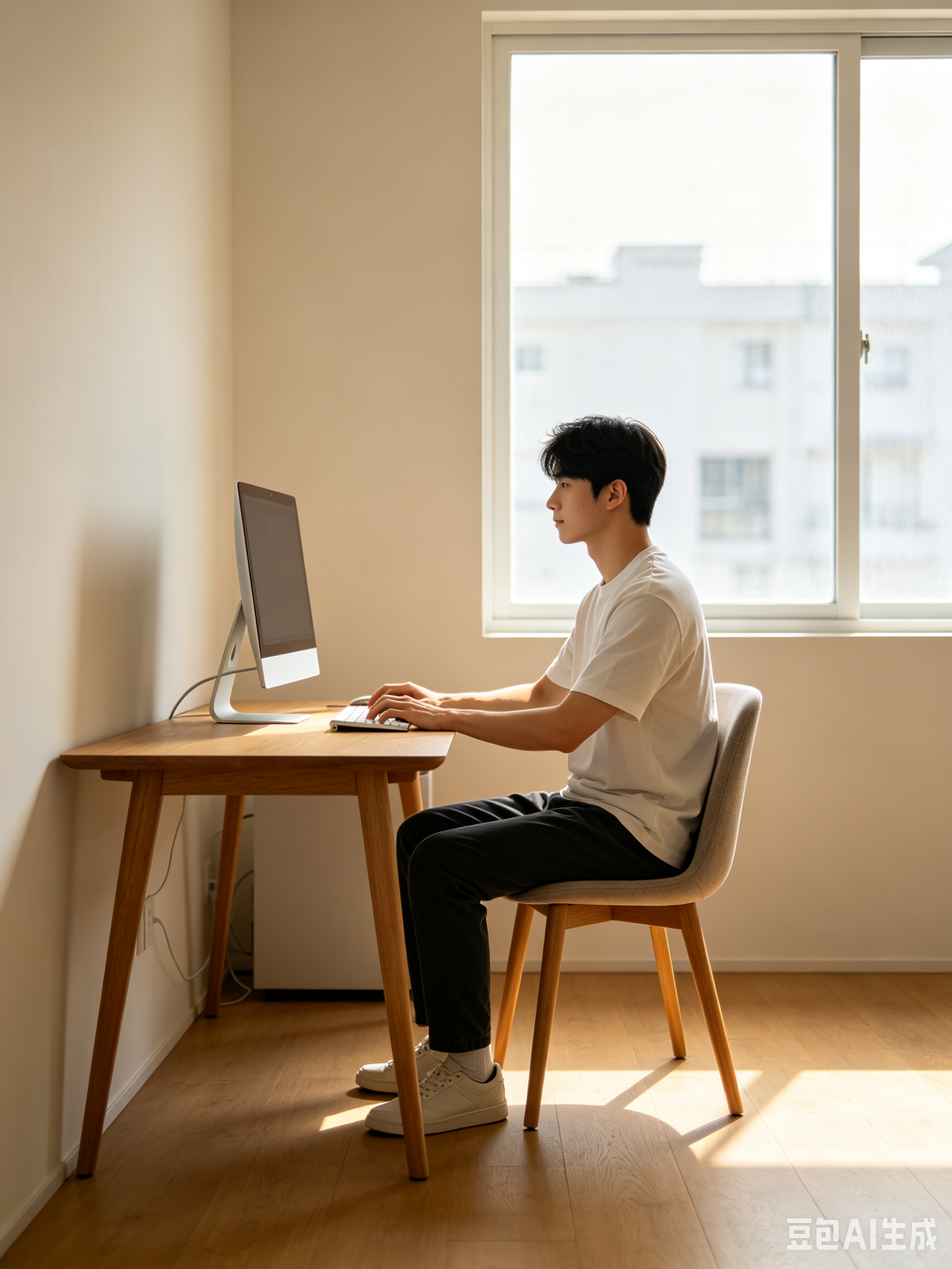sitting_good: (377, 404, 712, 1116)
